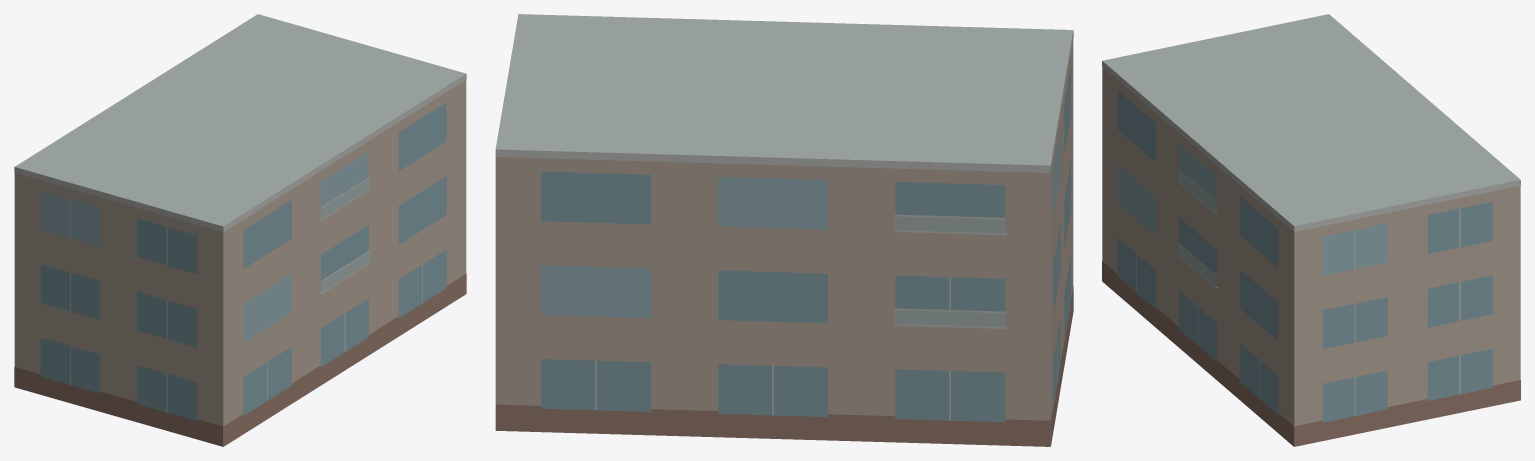
File: survey-upis-32704802.glb
3 renders of one model, left to right at view 1: azimuth 30°, elevation 25°; view 2: azimuth 150°, elevation 25°; view 3: azimuth 270°, elevation 25°, orthographic. The views are drawn at different scales.
Parts seen in each view (by area): view 1: survey-upis-32704802.tmp; view 2: survey-upis-32704802.tmp; view 3: survey-upis-32704802.tmp.
Part boxes in pixels (x1,y1,x2,y2): survey-upis-32704802.tmp: (14, 14, 466, 446); survey-upis-32704802.tmp: (495, 14, 1073, 446); survey-upis-32704802.tmp: (1102, 14, 1520, 446).
Bounding box in the file's own units: 18.89 × 9.15 × 15.75.
